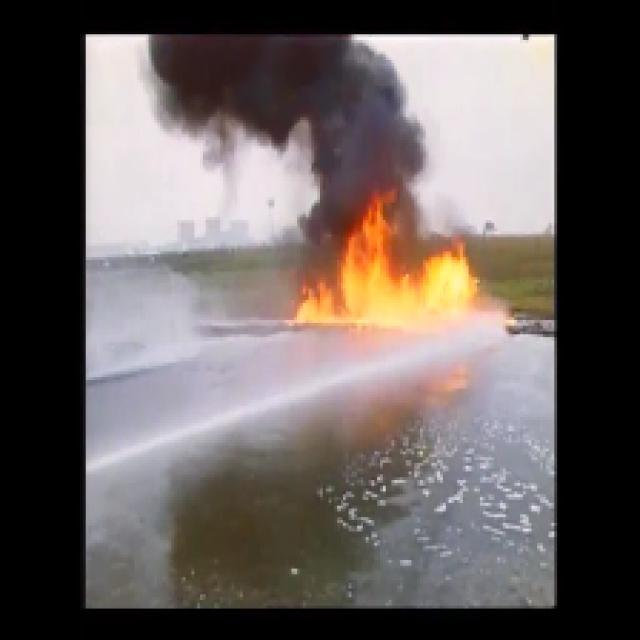Fire: (310, 234, 480, 326)
Smoke: (192, 36, 348, 114), (323, 126, 415, 188)
